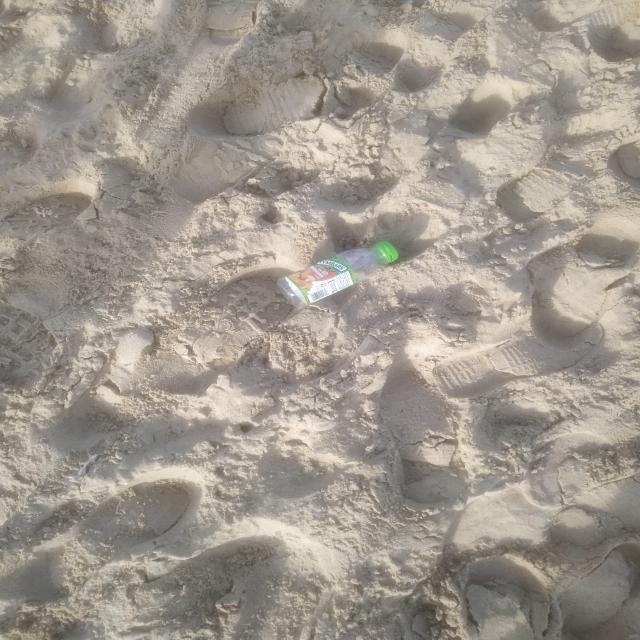litter: (276, 243, 397, 305)
